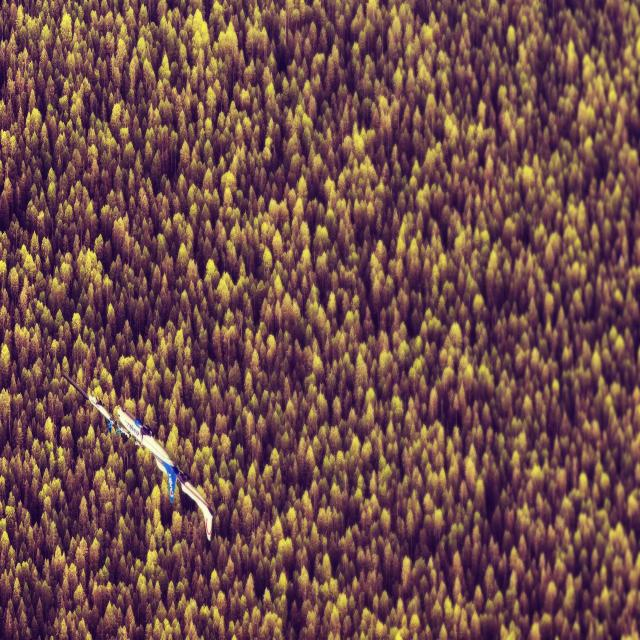airplane: (61, 370, 213, 542)
